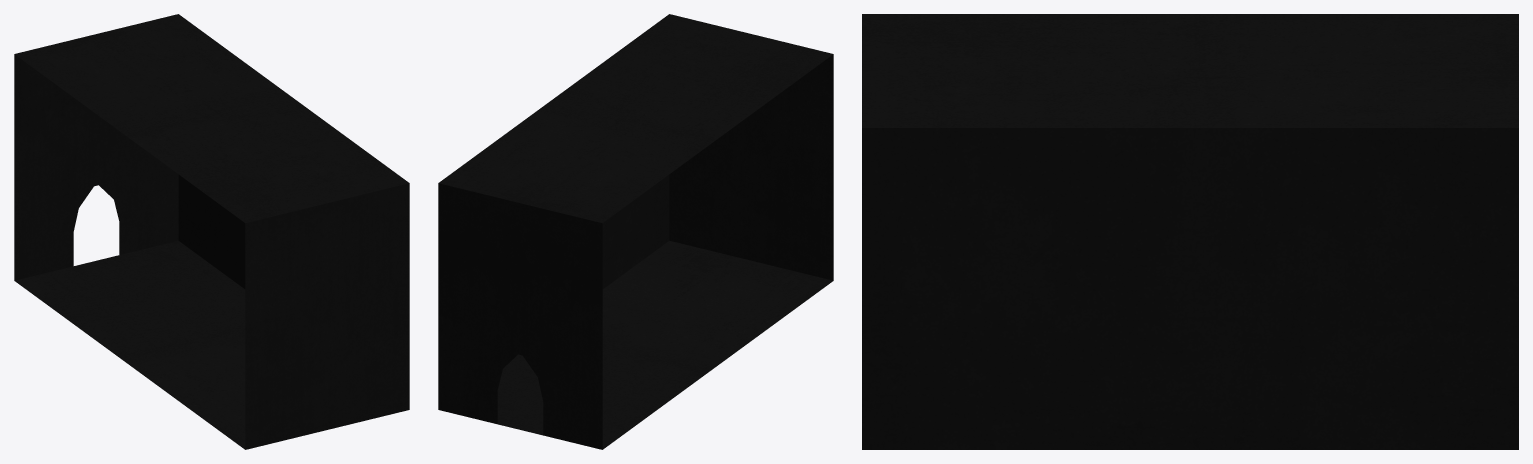
Rendered from room2.fbx.
The picture shows the model from 3 angles, left to right: view 1: azimuth 30°, elevation 25°; view 2: azimuth 150°, elevation 25°; view 3: azimuth 270°, elevation 25°; orthographic projection. The views are drawn at different scales.
Parts seen in each view (by area): view 1: wallBack_geo, roof_geo, floor_geo, wallFront_geo, wallRight_geo; view 2: roof_geo, wallFront_geo, floor_geo, wallBack_geo, wallRight_geo; view 3: wallRight_geo, roof_geo.
Part boxes in pixels (left/top/right/bottom): wallBack_geo: left=245, top=183, right=409, bottom=449; roof_geo: left=14, top=14, right=409, bottom=223; floor_geo: left=14, top=240, right=245, bottom=449; wallFront_geo: left=14, top=54, right=178, bottom=280; wallRight_geo: left=178, top=175, right=245, bottom=288; roof_geo: left=438, top=14, right=833, bottom=223; wallFront_geo: left=438, top=183, right=602, bottom=449; floor_geo: left=497, top=240, right=833, bottom=449; wallBack_geo: left=669, top=54, right=833, bottom=280; wallRight_geo: left=602, top=175, right=669, bottom=288; wallRight_geo: left=862, top=128, right=1518, bottom=449; roof_geo: left=862, top=14, right=1518, bottom=127.
Size of the model in its own units: 9.81 by 12.93 by 23.9.
